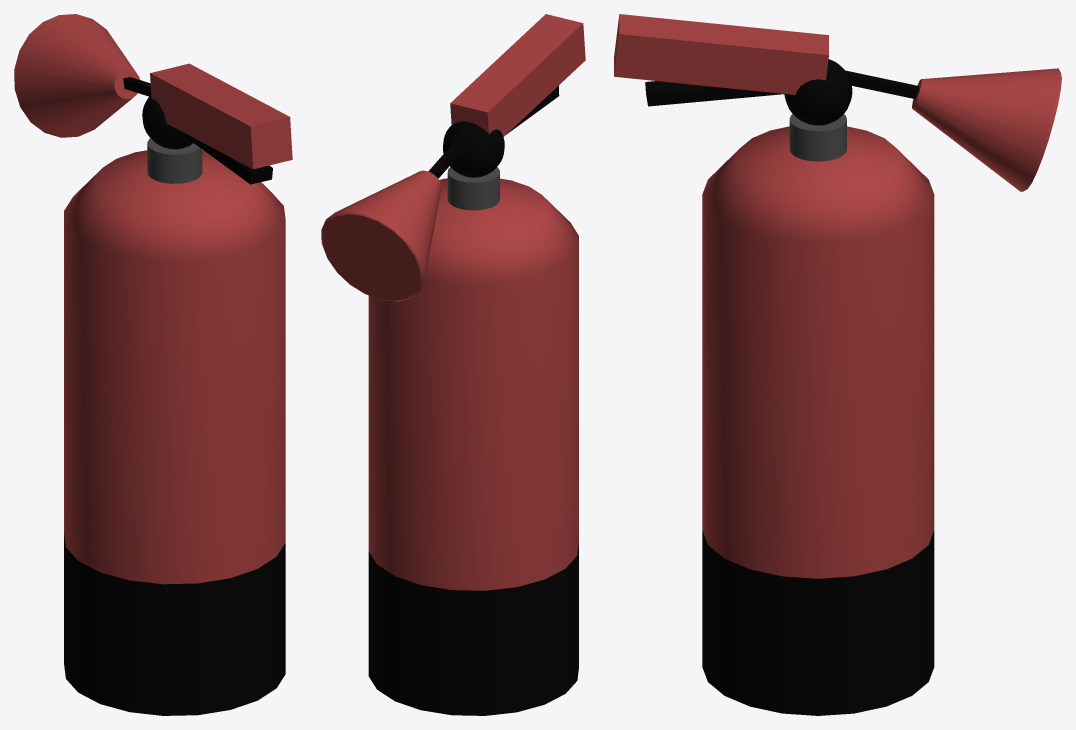
File: Fireextinguisher.fbx
The picture shows the model from 3 angles, left to right: view 1: azimuth 30°, elevation 25°; view 2: azimuth 150°, elevation 25°; view 3: azimuth 270°, elevation 25°; orthographic projection. The views are drawn at different scales.
Parts seen in each view (by area): view 1: Fireextinguisher; view 2: Fireextinguisher; view 3: Fireextinguisher.
Boxes of the visible parts, bbox=[...] form: Fireextinguisher: bbox=[14, 14, 292, 715]; Fireextinguisher: bbox=[321, 14, 585, 715]; Fireextinguisher: bbox=[614, 14, 1061, 715].
Bounding box in the file's own units: 3.5 × 10.69 × 6.75.
